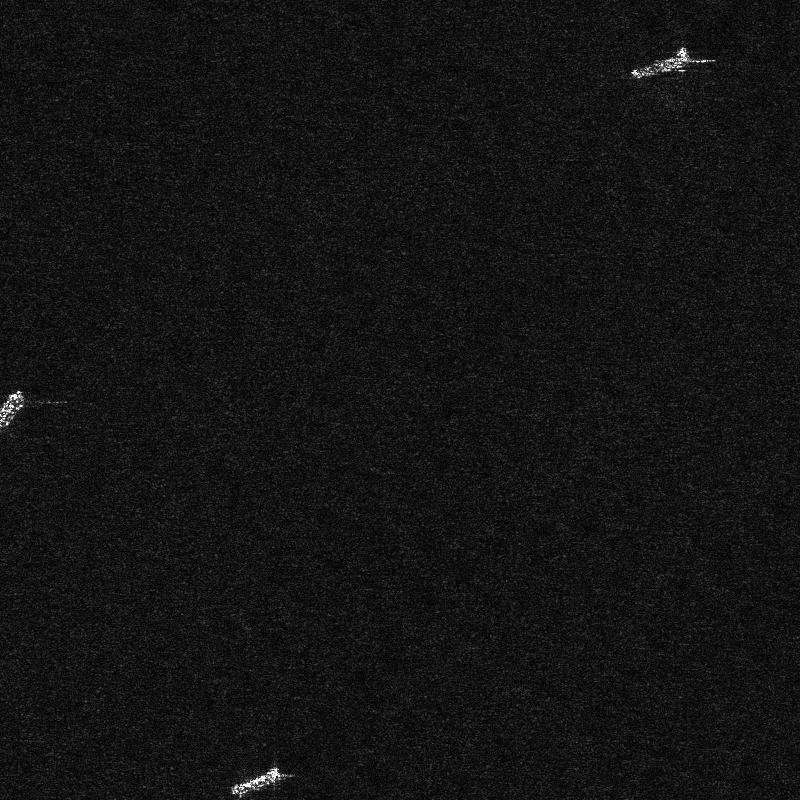ship: (631, 47, 690, 78), (232, 767, 279, 795), (0, 392, 25, 429)
